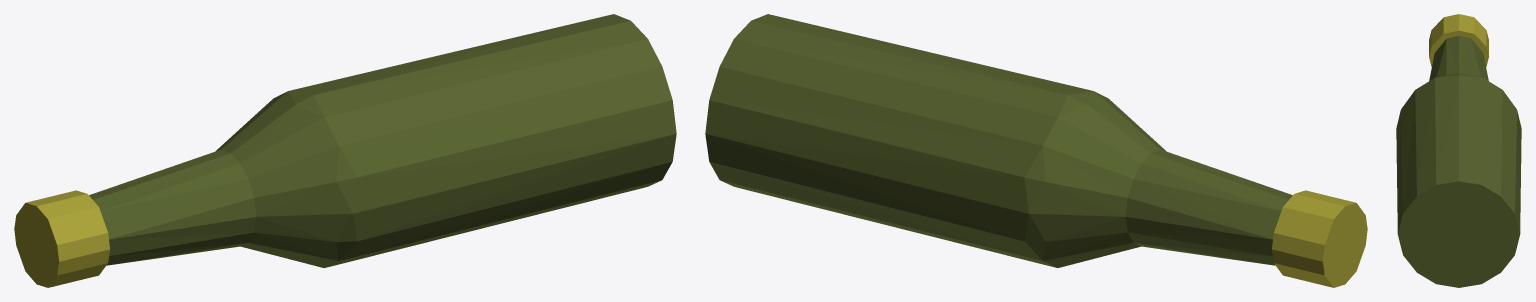
Rendered from Model_Butelka_2.fbx.
3 renders of one model, left to right at view 1: azimuth 30°, elevation 25°; view 2: azimuth 150°, elevation 25°; view 3: azimuth 270°, elevation 25°, orthographic. The views are drawn at different scales.
Parts seen in each view (by area): view 1: Mesh_Butelka_2; view 2: Mesh_Butelka_2; view 3: Mesh_Butelka_2.
Boxes of the visible parts, x1,y1,x2,y2 form: Mesh_Butelka_2: (14, 14, 676, 287); Mesh_Butelka_2: (705, 14, 1367, 287); Mesh_Butelka_2: (1396, 14, 1521, 287).
Size of the model in its own units: 10.29 by 10.04 by 37.77.
